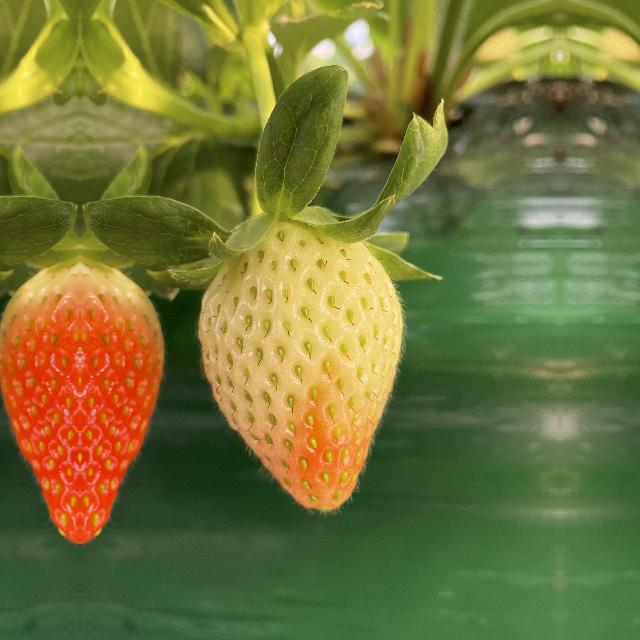Health_100: (80, 251, 168, 551), (0, 251, 80, 551)
Health_50: (190, 213, 408, 522)
